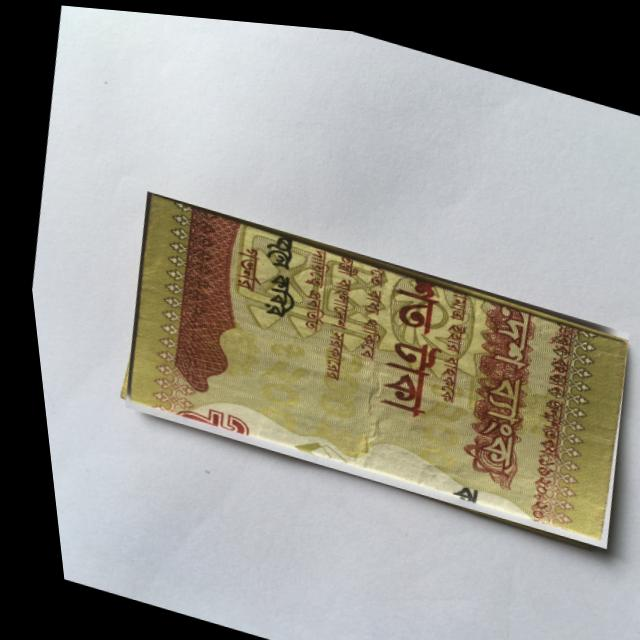Taka: (96, 186, 640, 542)
